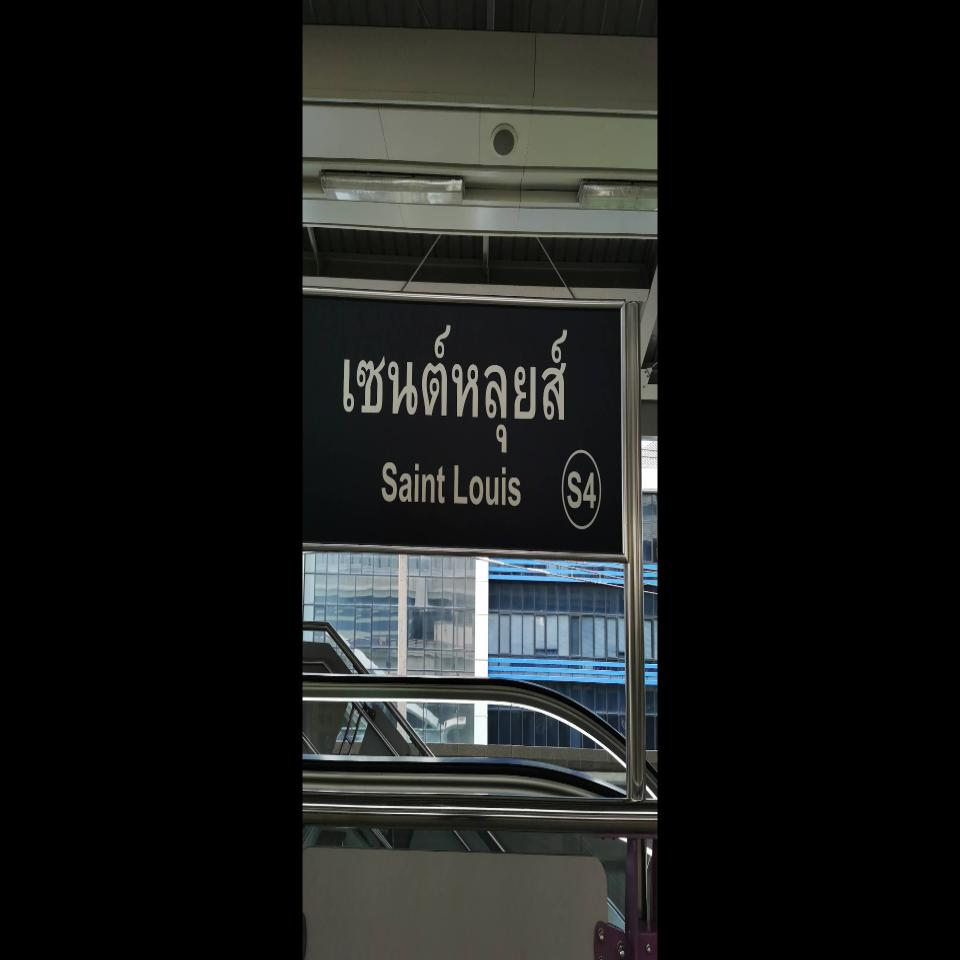signage: (302, 284, 628, 563)
